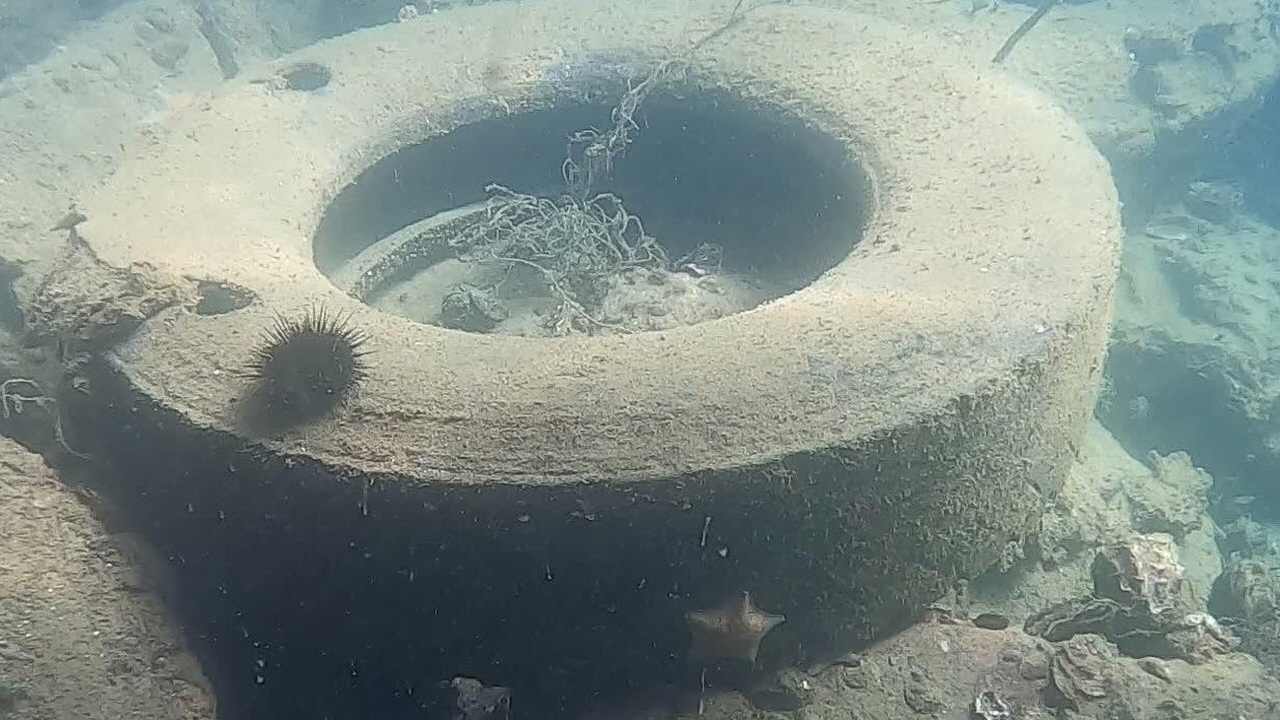tire: (68, 0, 1123, 656)
